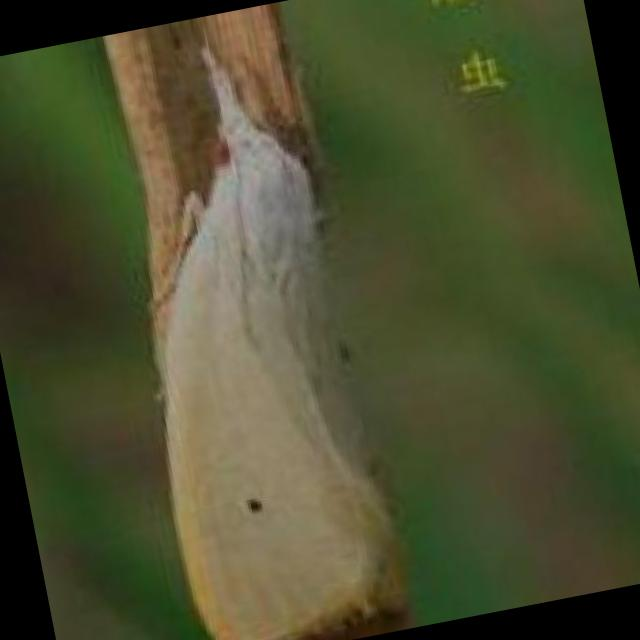stem-borer: (85, 22, 418, 640)
